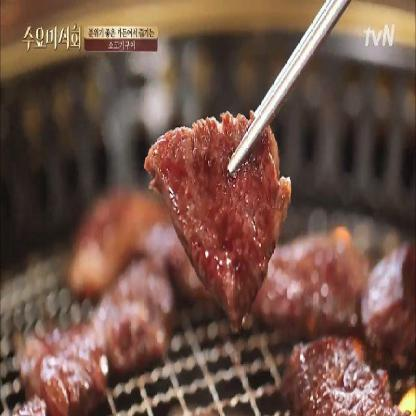Carne: (147, 104, 287, 311), (290, 334, 392, 415), (26, 336, 96, 415), (362, 249, 416, 338)
